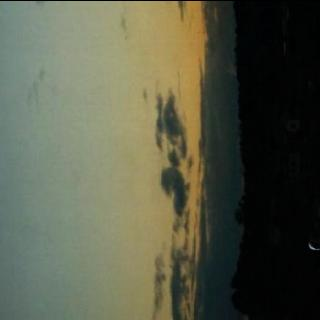Stratocumulus: (1, 0, 242, 320)
